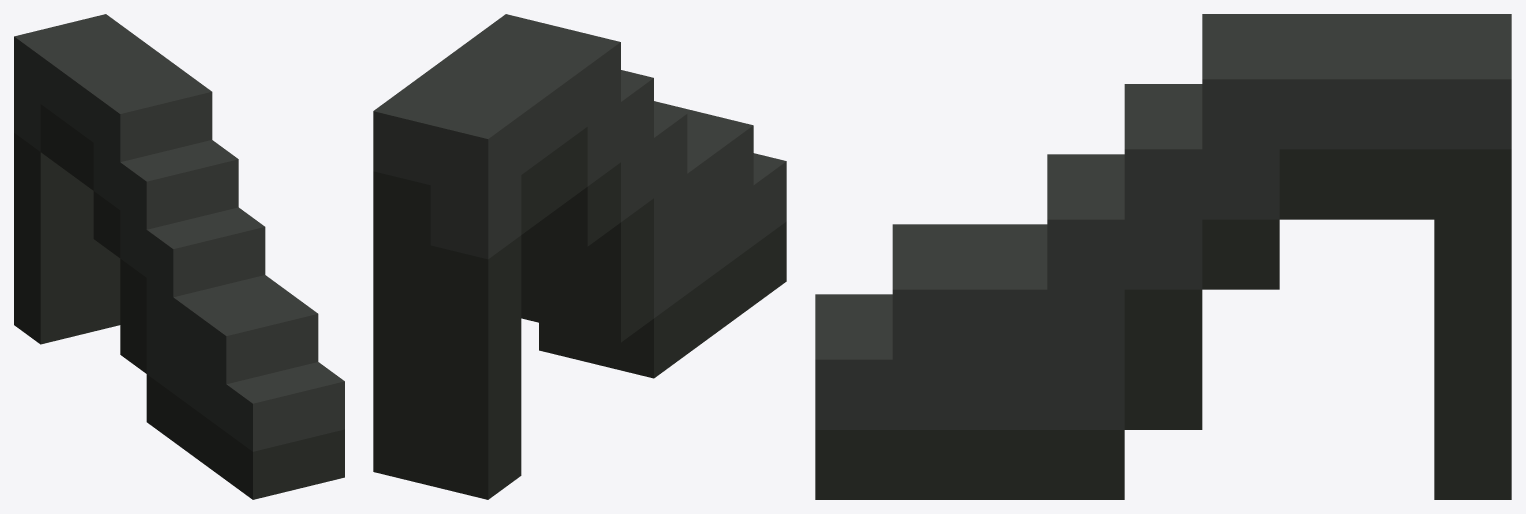
Rendered from Brune-4.obj.
3 renders of one model, left to right at view 1: azimuth 30°, elevation 25°; view 2: azimuth 150°, elevation 25°; view 3: azimuth 270°, elevation 25°, orthographic. The views are drawn at different scales.
Bounding box in the file's own units: 0.2 × 0.6 × 0.9.
1 material, 1 textured.
